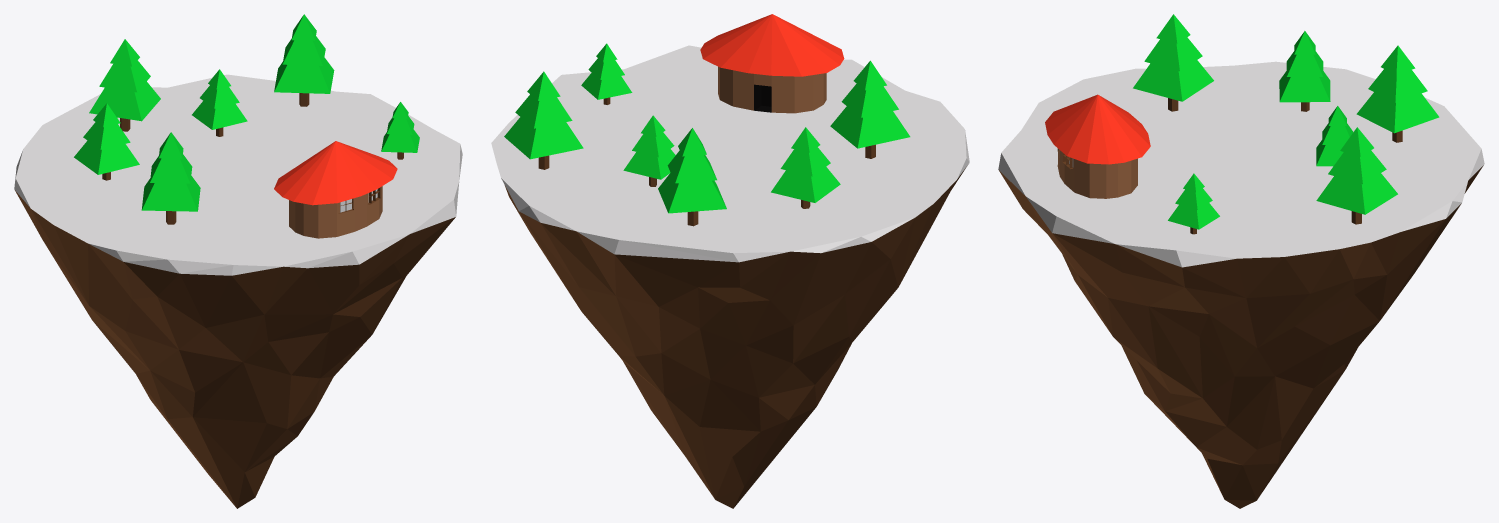
The model's file is winter_hut.glb.
The picture shows the model from 3 angles, left to right: view 1: azimuth 30°, elevation 25°; view 2: azimuth 150°, elevation 25°; view 3: azimuth 270°, elevation 25°; orthographic projection. The views are drawn at different scales.
Parts seen in each view (by area): view 1: Cone; view 2: Cone; view 3: Cone.
Part boxes in pixels (left/top/right/bottom): Cone: left=14, top=14, right=462, bottom=508; Cone: left=491, top=14, right=969, bottom=508; Cone: left=998, top=14, right=1484, bottom=508.
Size of the model in its own units: 2.44 by 2.56 by 2.53.
Materials: 3 (3 with a texture image).
